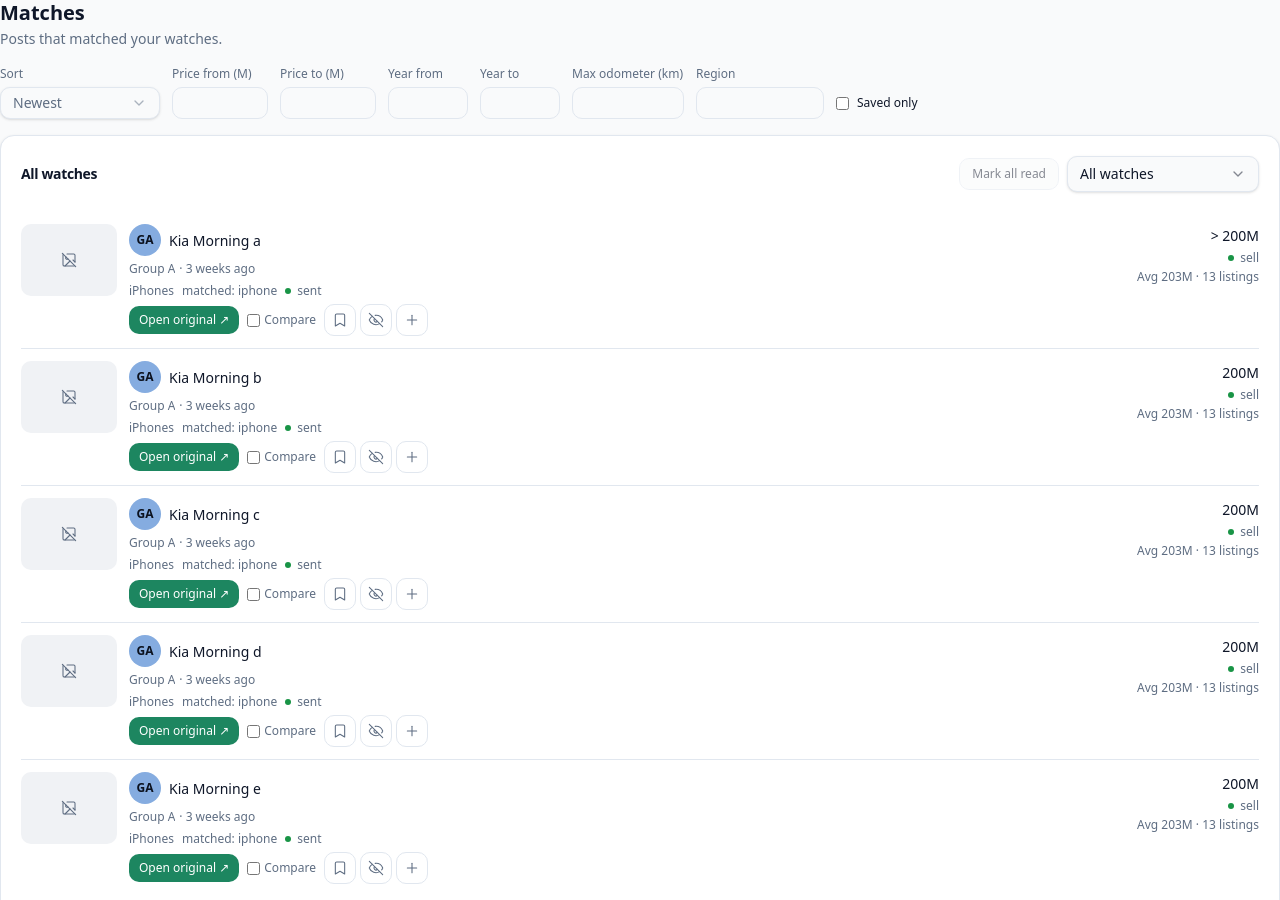
Matches page decision UI › Not interested PUTs hidden and removes the card
Click the button named "Not interested" below "Kia Morning b".
click(376, 457)  # box [360,441,392,473]
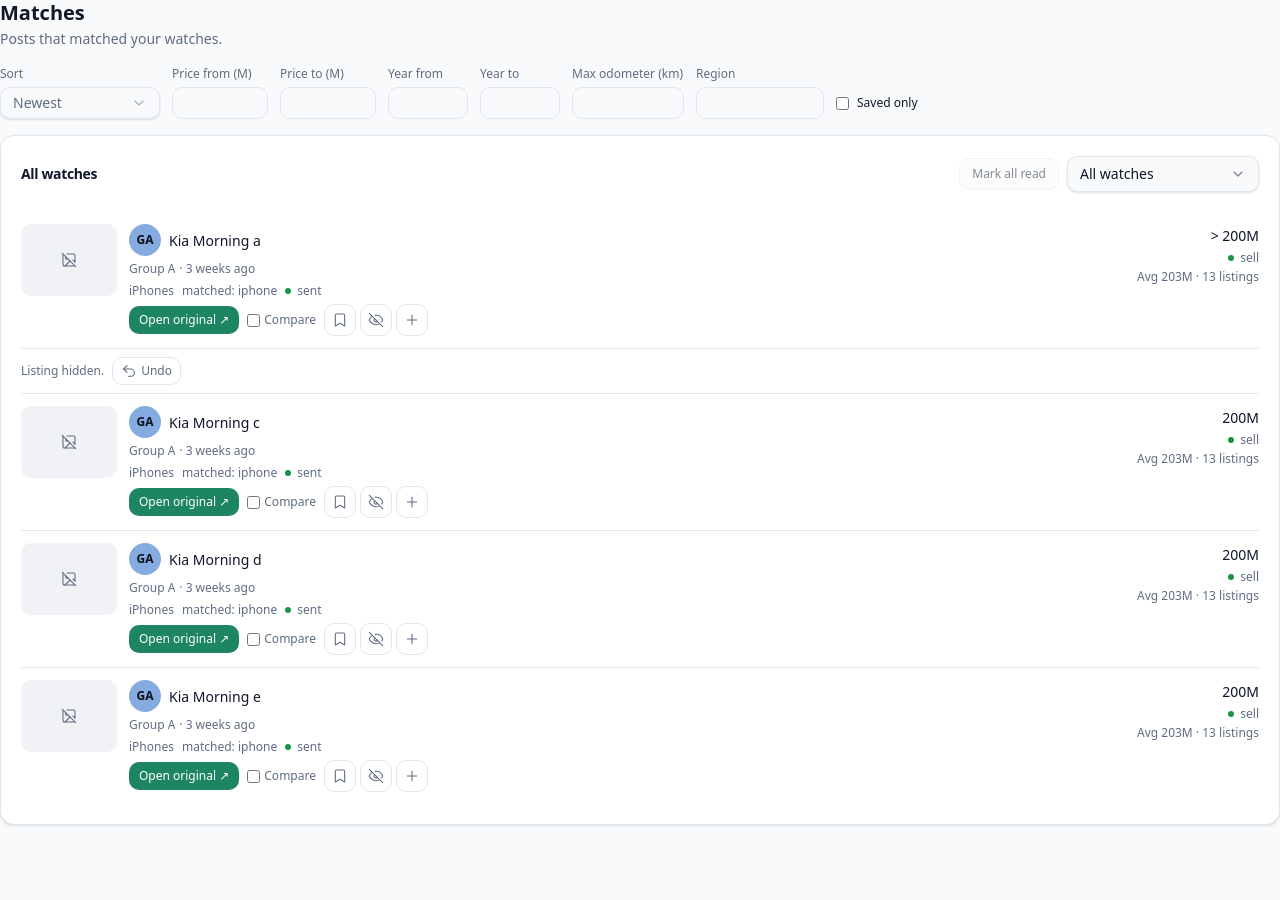
Now the link "Kia Morning b" is gone
